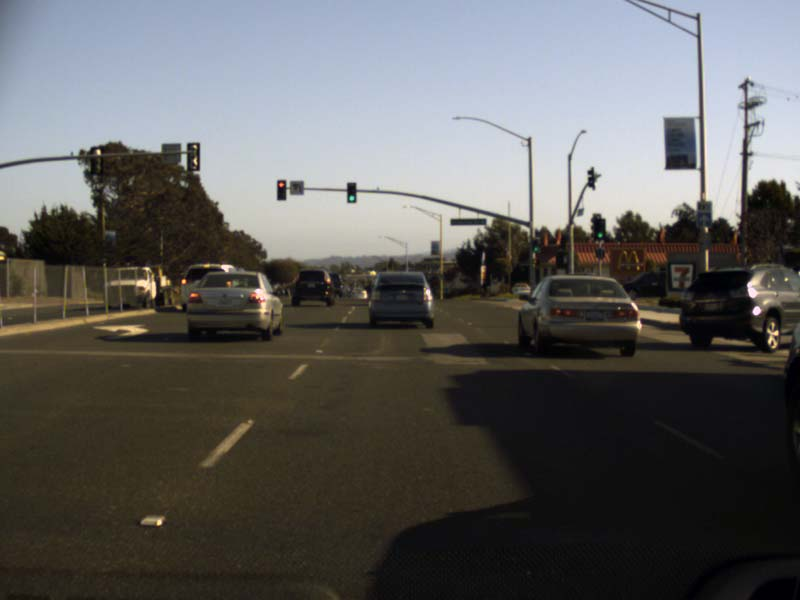Green: (346, 182, 356, 203), (595, 218, 604, 239), (532, 237, 540, 252)
Red: (276, 179, 286, 201)
